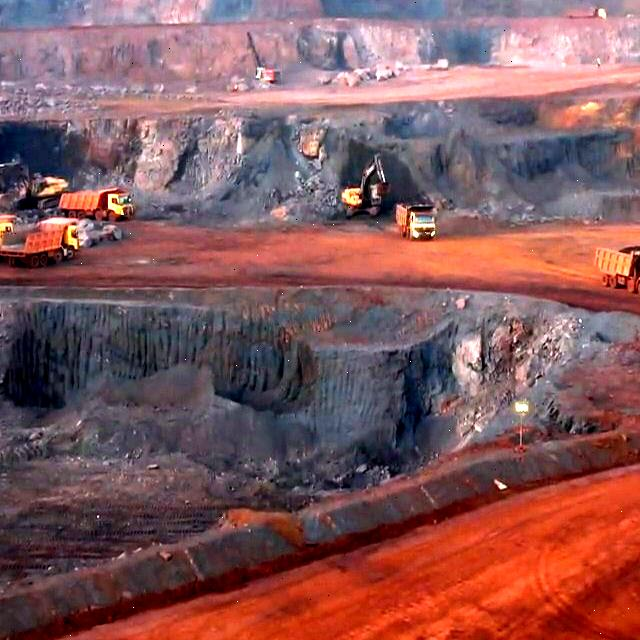Blast rig: (255, 66, 282, 85)
Dumper truck: (4, 228, 77, 262), (599, 249, 640, 290)
Excavator: (18, 171, 59, 208), (340, 185, 381, 215)
